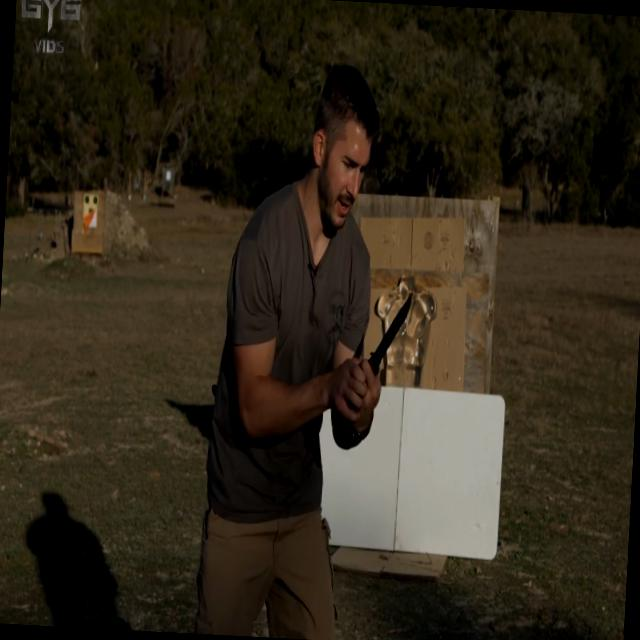knife: (329, 274, 418, 428)
